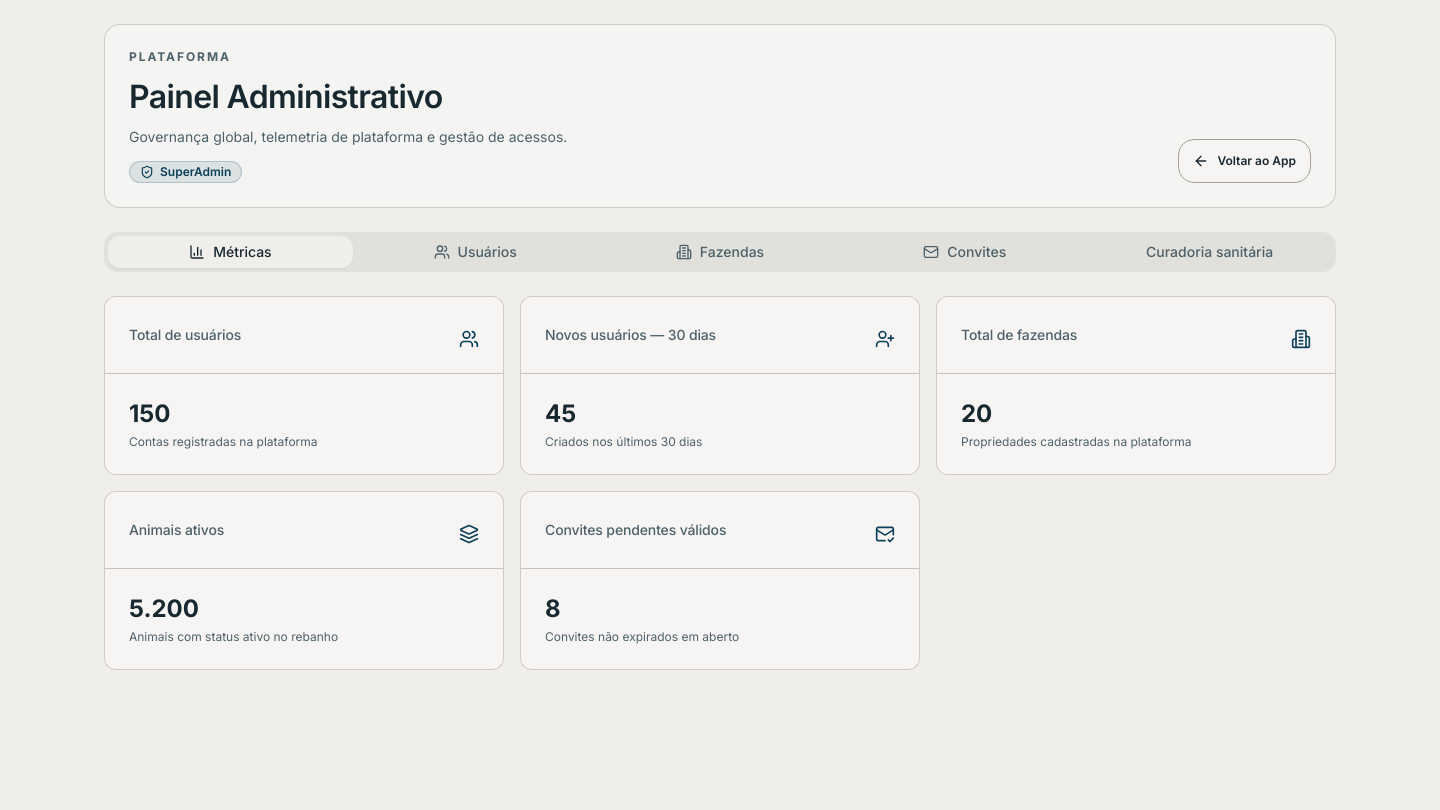
Test: AdminBackoffice Page (A3.1 + A4) › executa mutação A4 de can_create_farm com confirmação prévia e atualiza UI
The image size is (1440, 810).
Click the tab "Usuários". click: point(475, 252)
box: [353, 236, 598, 268]
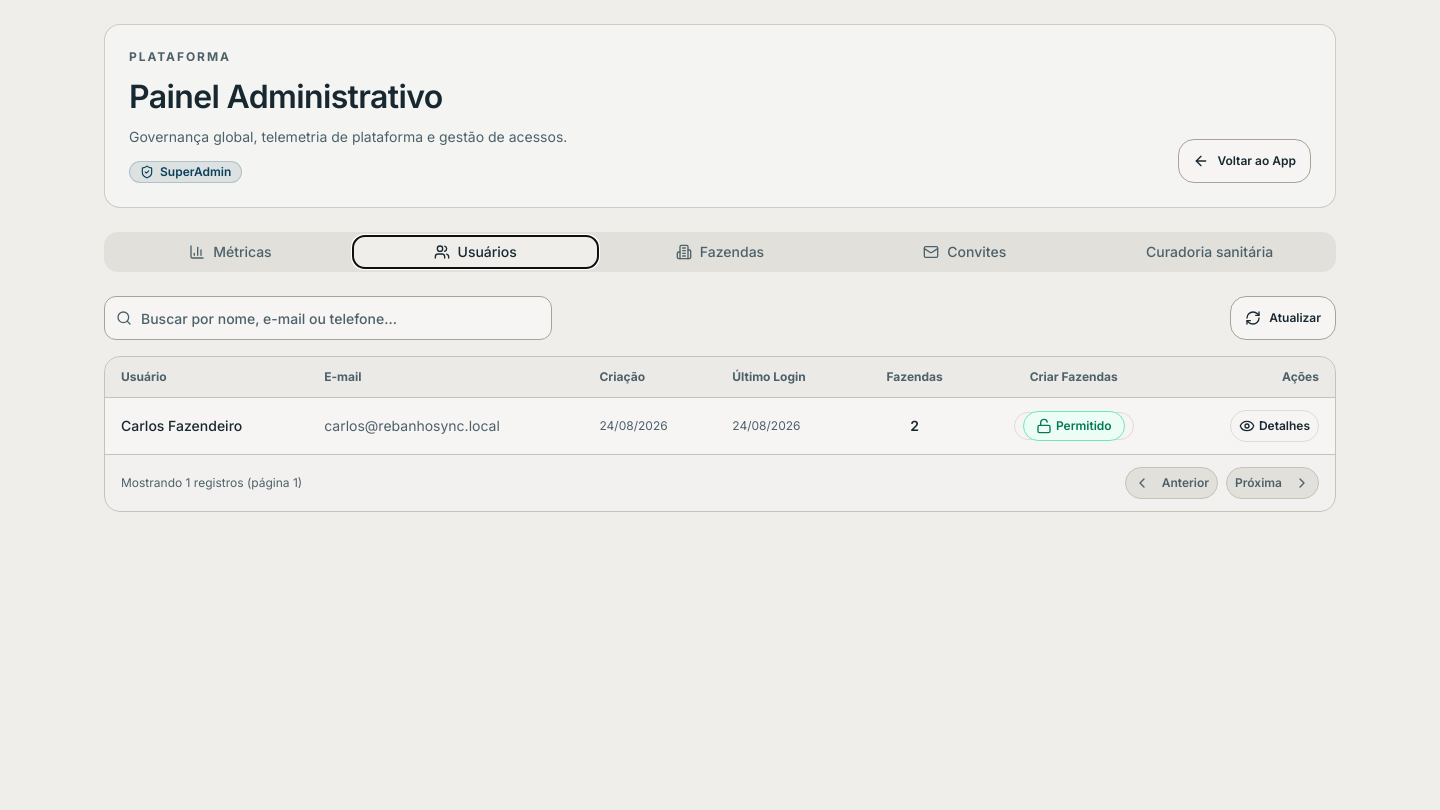
Expected: the text "Carlos Fazendeiro" is shown, [105, 398, 308, 454]
Note: Clica no controle de status can_create_farm
Click the button titled "Clique para bloquear criação de fazenda". click: point(1074, 426)
box: [1014, 412, 1134, 440]
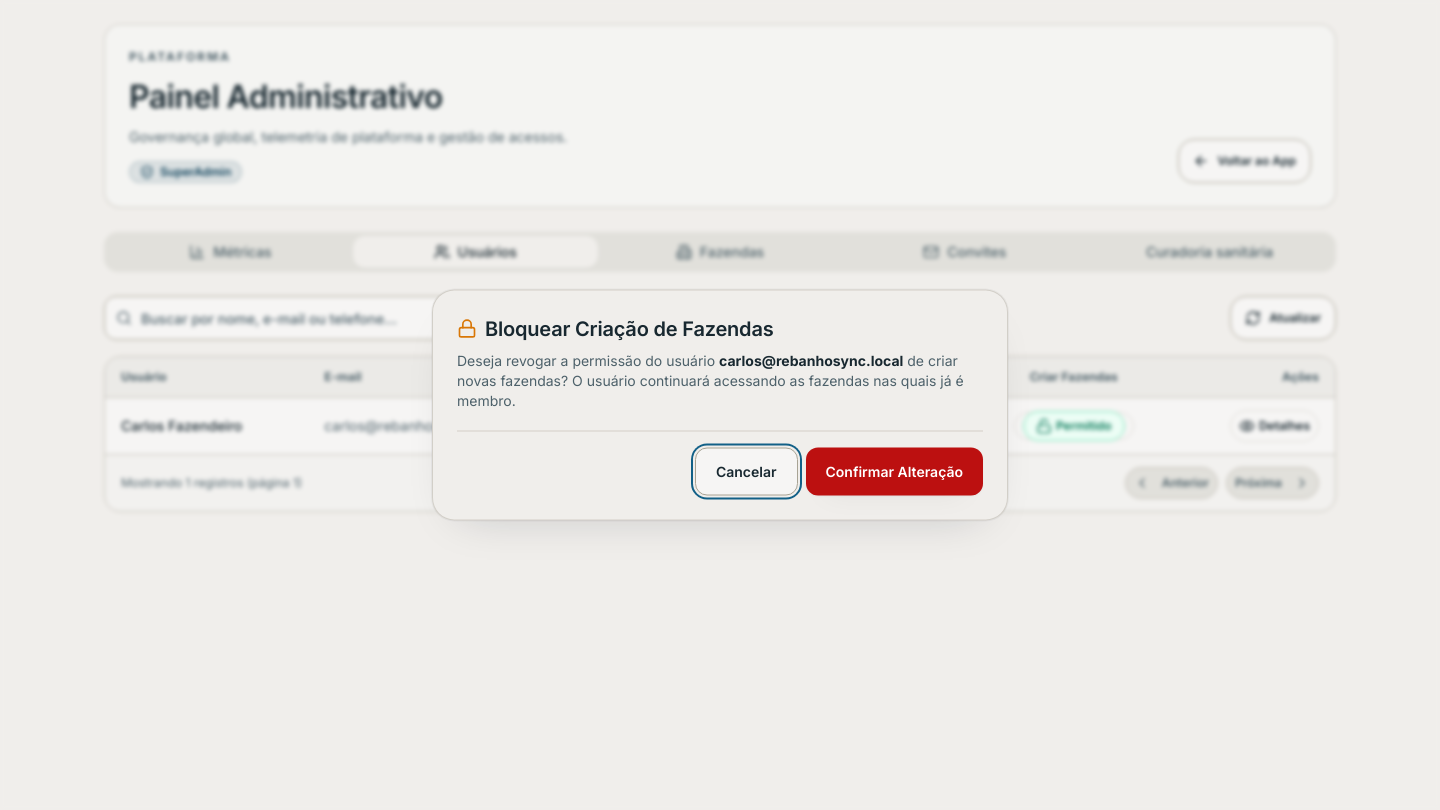
Expected: the heading "Bloquear Criação de Fazendas" is shown, [457, 316, 774, 340]
Expected: the text "Deseja revogar a permissão do usuário" is shown, [457, 352, 715, 368]
Note: Clica em confirmar
Click the button "Confirmar Alteração". click: point(894, 472)
box: [806, 448, 983, 496]
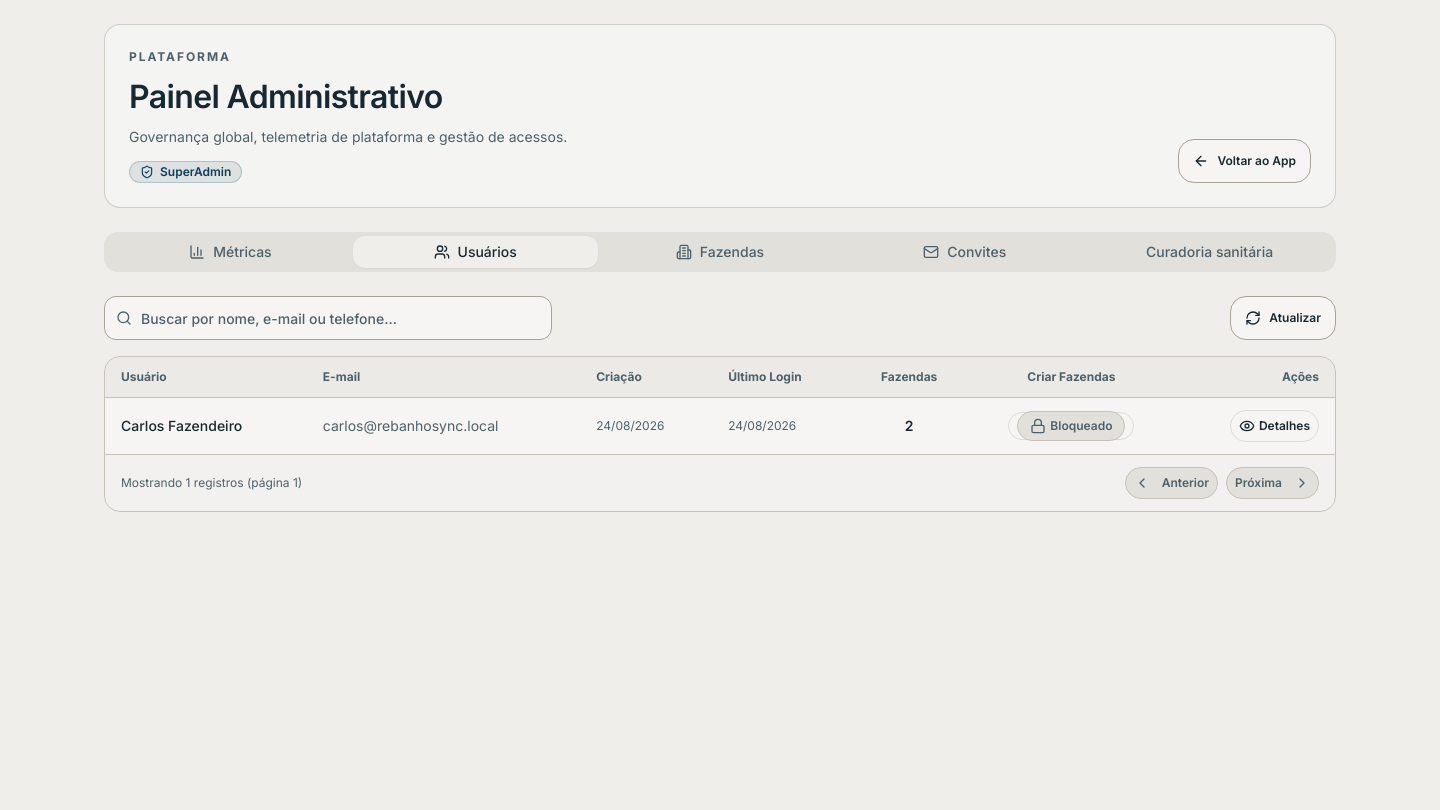
Expected: the text "Bloqueado" is shown, [1017, 411, 1125, 441]
